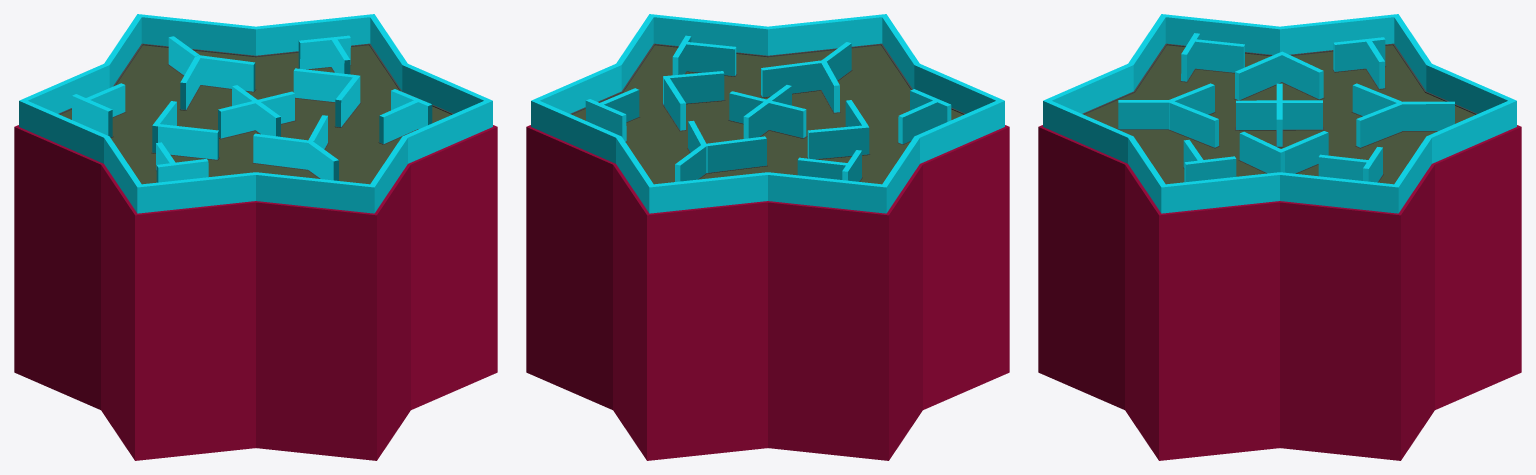
The model's file is Level_6.FBX.
3 views of the same model, side by side, from view 1: azimuth 30°, elevation 25°; view 2: azimuth 150°, elevation 25°; view 3: azimuth 270°, elevation 25° (orthographic).
Parts seen in each view (by area): view 1: Level_6; view 2: Level_6; view 3: Level_6.
Part boxes in pixels (x1,y1,x2,y2): Level_6: (14, 14, 497, 460); Level_6: (526, 14, 1009, 460); Level_6: (1038, 14, 1521, 460).
Size of the model in its own units: 250 by 179 by 288.
